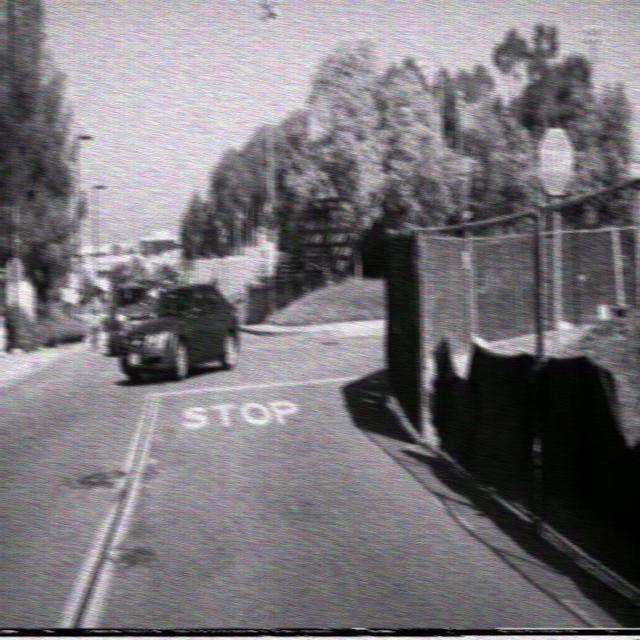stop_sign: (538, 128, 574, 194)
